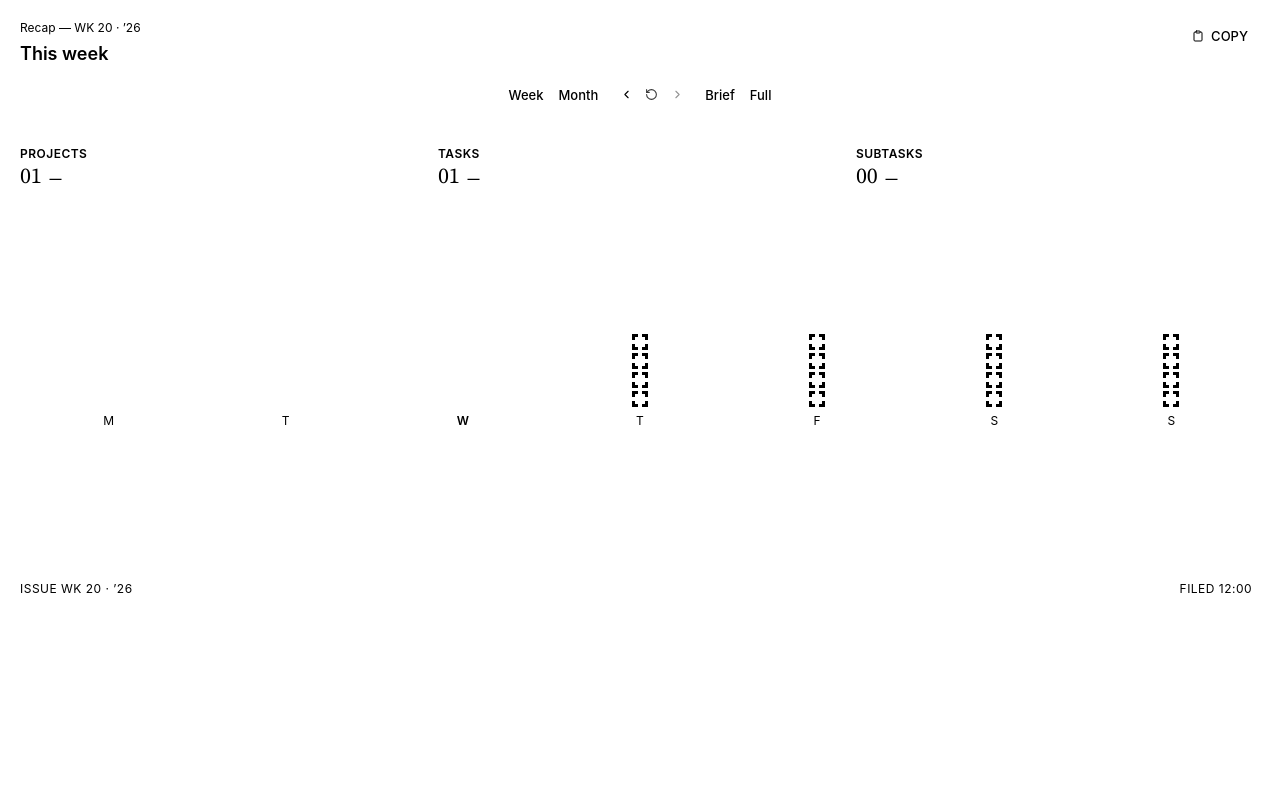
Test: TaskProgressSummaryCard › navigates to previous weeks and back to the current week
This screenshot has width=1280, height=800.
Click the tab "Full".
click(761, 95)  # box [743,84,778,106]
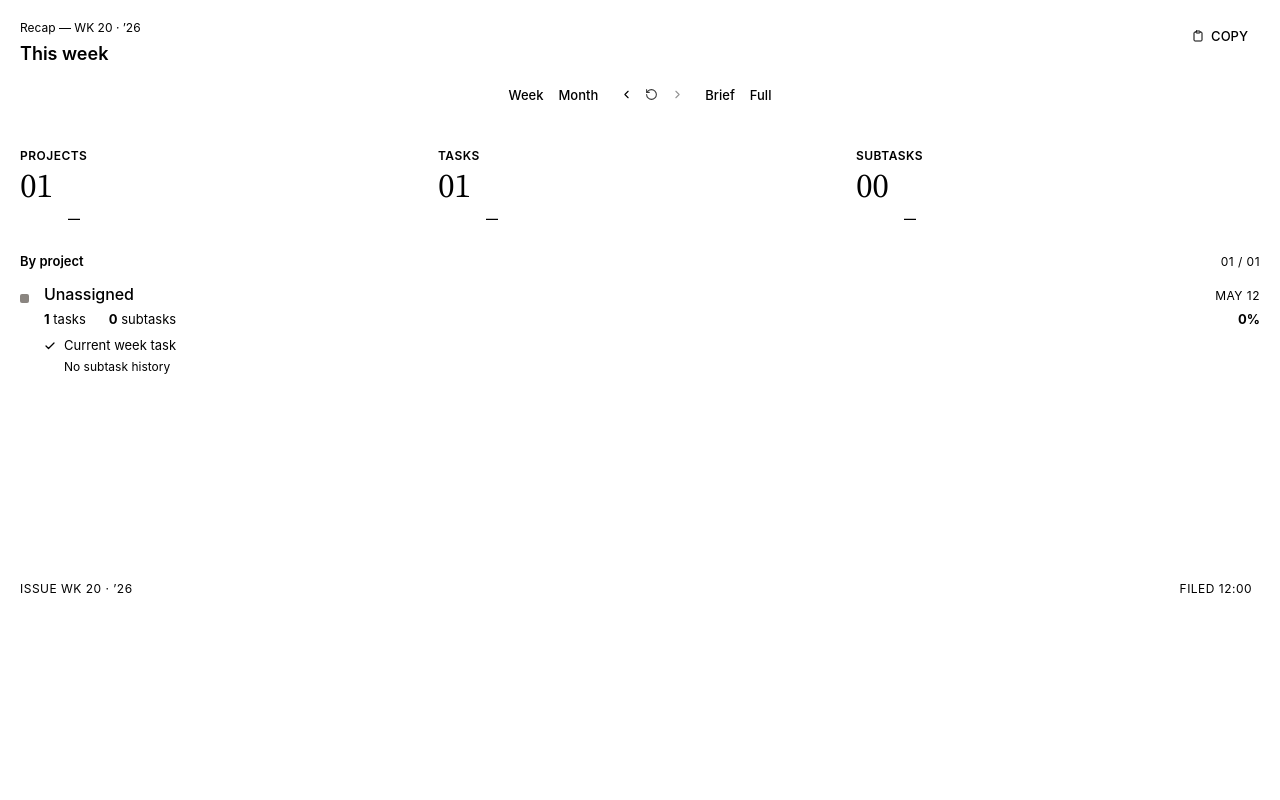
Expected: the text "Previous week task" is not shown
Now the text "Current week task" is shown, box [64,337,176,353]
Click the button named "Previous period".
click(626, 95)  # box [615,84,637,106]
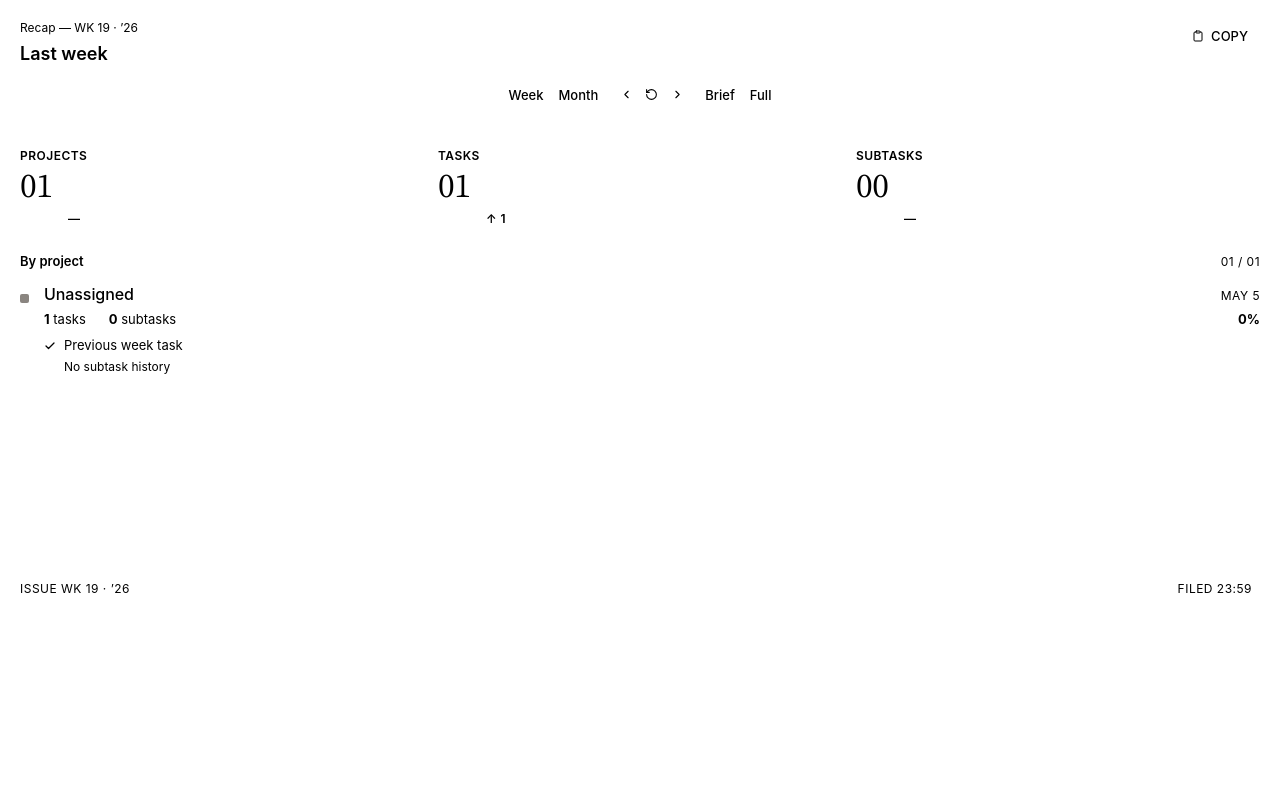
Now the heading "Last week" is shown, box [20,43,108,64]
Now the text "Previous week task" is shown, box [64,337,183,353]
Now the text "Current week task" is gone
Click the button named "This week".
click(652, 95)  # box [639,84,664,106]
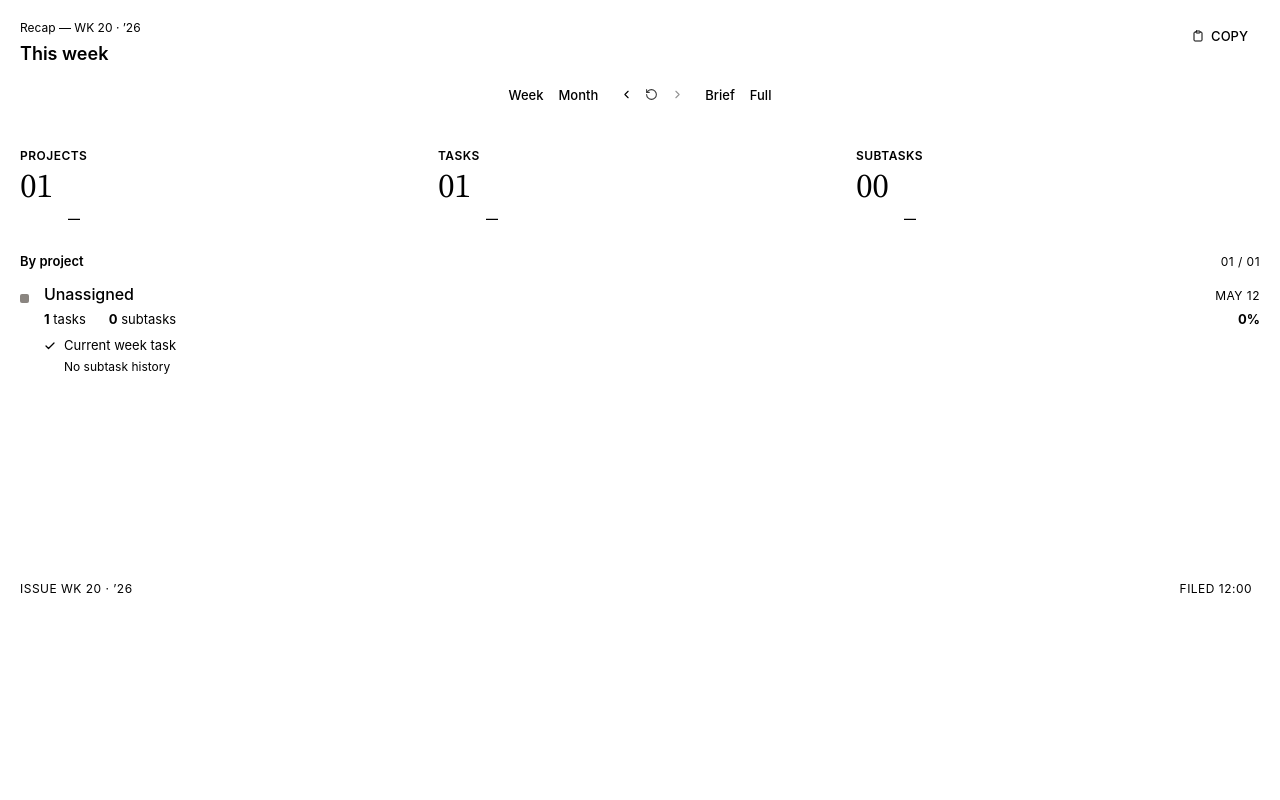
Now the text "Current week task" is shown, box [64,337,176,353]
Now the text "Previous week task" is gone
